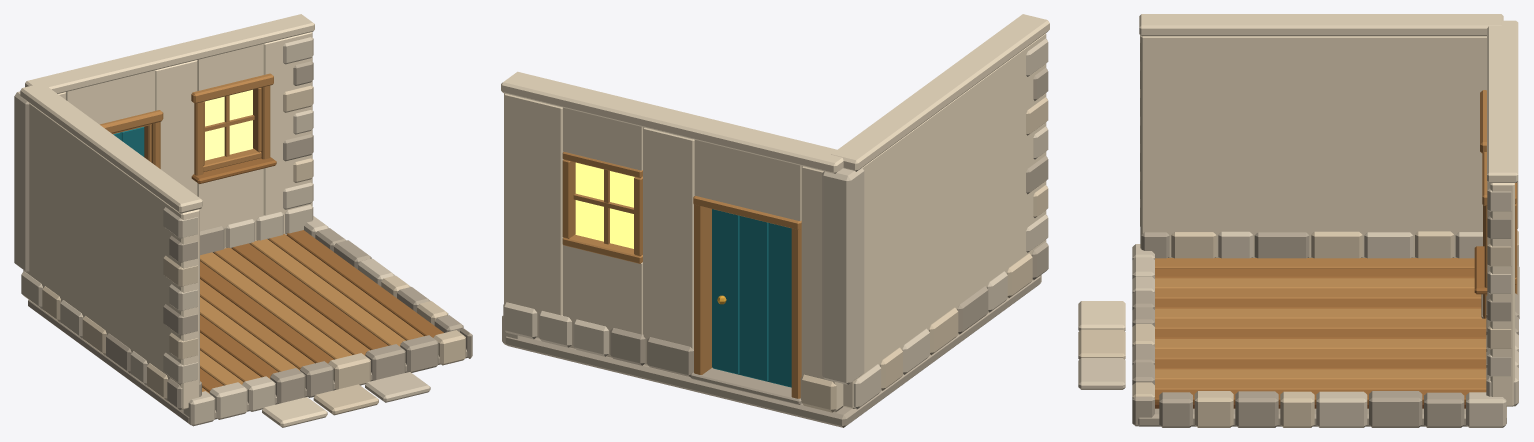
Rendered from room_shell_3x3.glb.
3 renders of one model, left to right at view 1: azimuth 30°, elevation 25°; view 2: azimuth 150°, elevation 25°; view 3: azimuth 270°, elevation 25°, orthographic. The views are drawn at different scales.
Parts seen in each view (by area): view 1: room_shell_3x3, part_door_leaf; view 2: room_shell_3x3, part_door_leaf; view 3: room_shell_3x3.
Part boxes in pixels (<box>): room_shell_3x3: <box>14,14,472,427</box>; part_door_leaf: <box>113,127,144,156</box>; room_shell_3x3: <box>501,14,1049,427</box>; part_door_leaf: <box>712,209,791,387</box>; room_shell_3x3: <box>1078,14,1519,427</box>.
Size of the model in its own units: 3.44 by 2.48 by 3.92.
